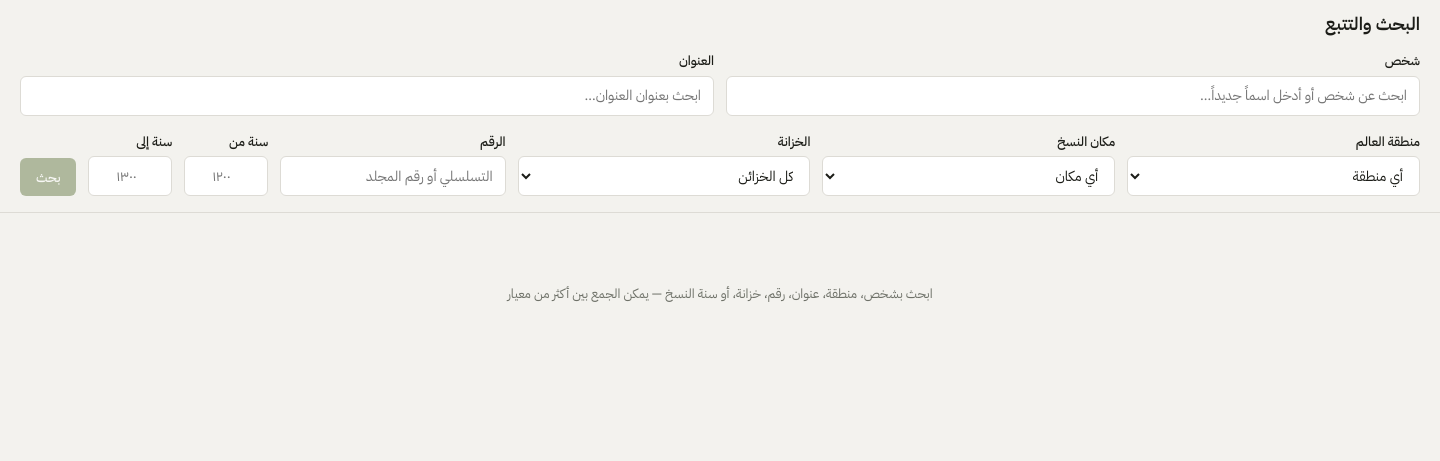
Scenario: TraceScreen — results table › hides the placeholder row once a specific role tab is selected
This screenshot has width=1440, height=461.
In the field labelled "العنوان": coordinates (367, 96) [20,76,714,116], type "ر"
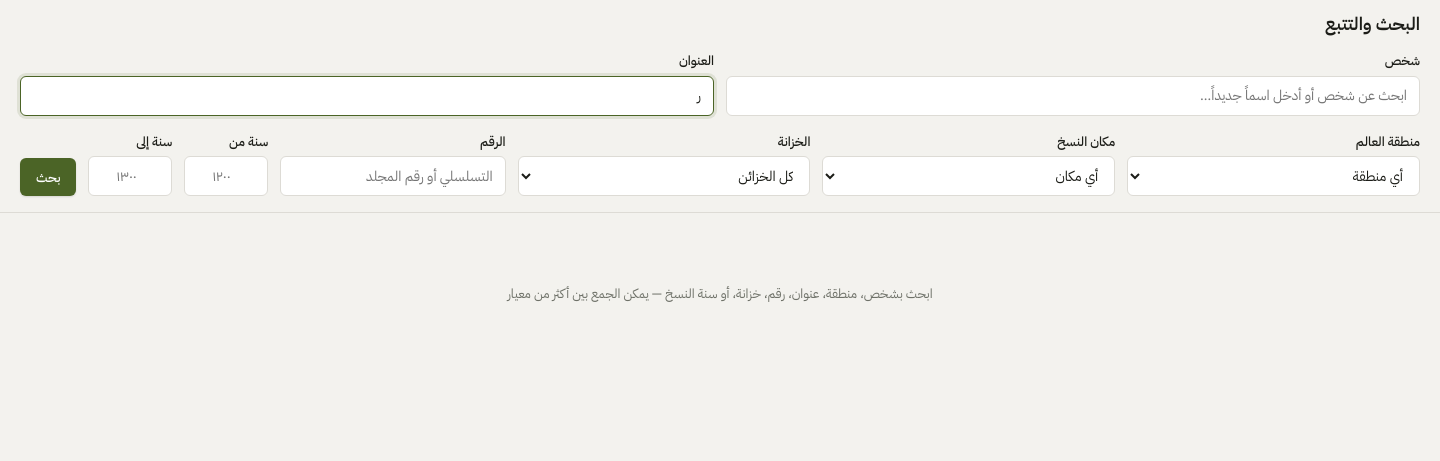
Click the button "بحث": coordinates (48, 177) [20,158,76,196]
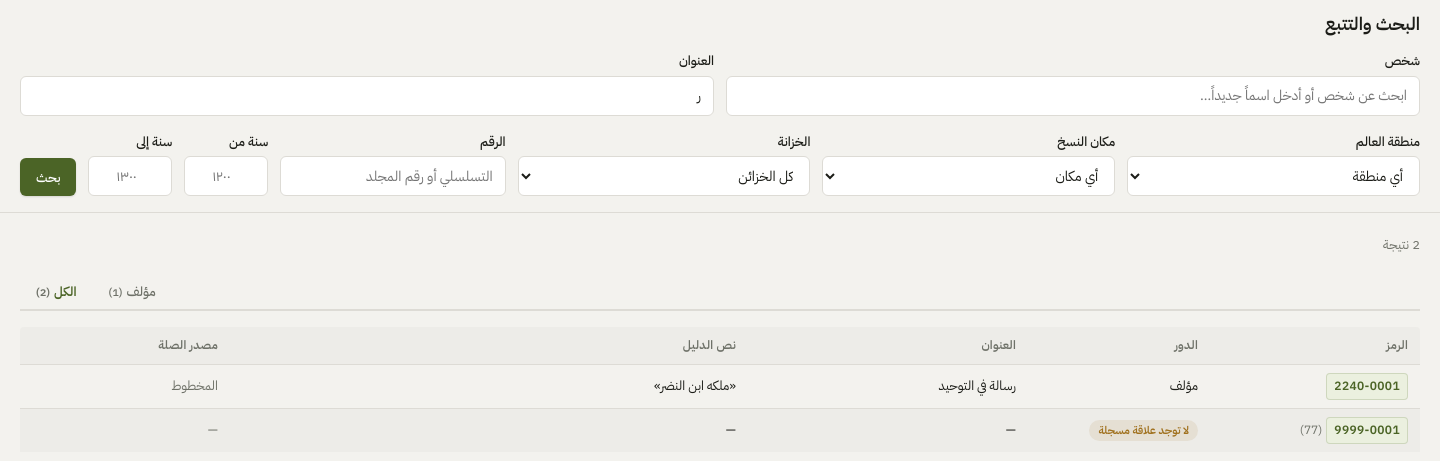
Expected: the text "لا توجد علاقة مسجلة" is shown, [1089,420,1198,441]
Click the tab "مؤلف(1)": coordinates (132, 292) [92,274,172,311]
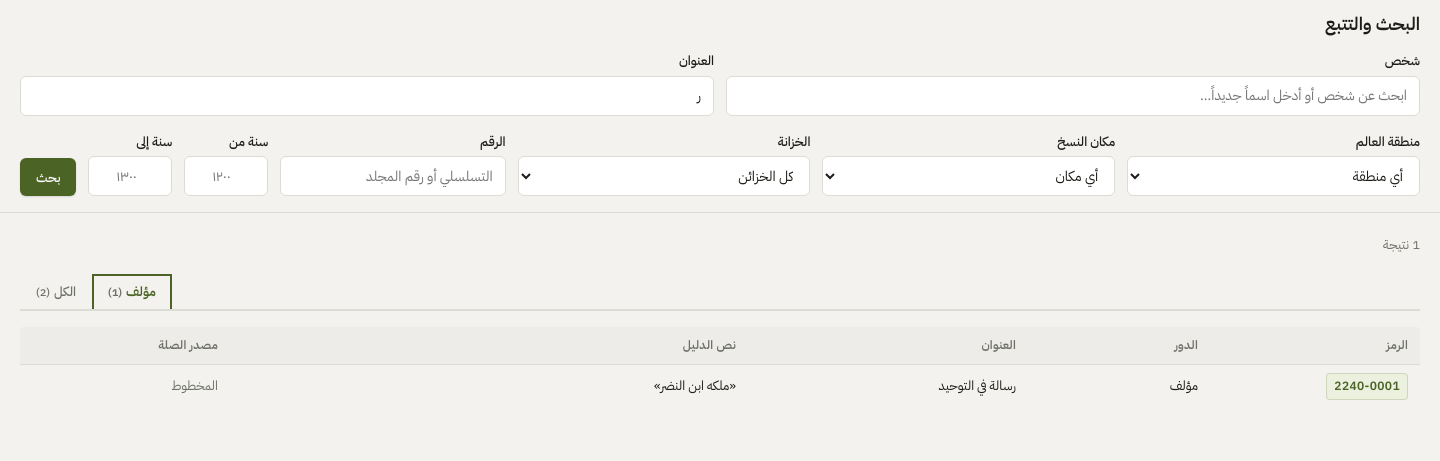
Expected: the text "رسالة في التوحيد" is shown, [748,364,1028,408]
Expected: the text "لا توجد علاقة مسجلة" is gone
